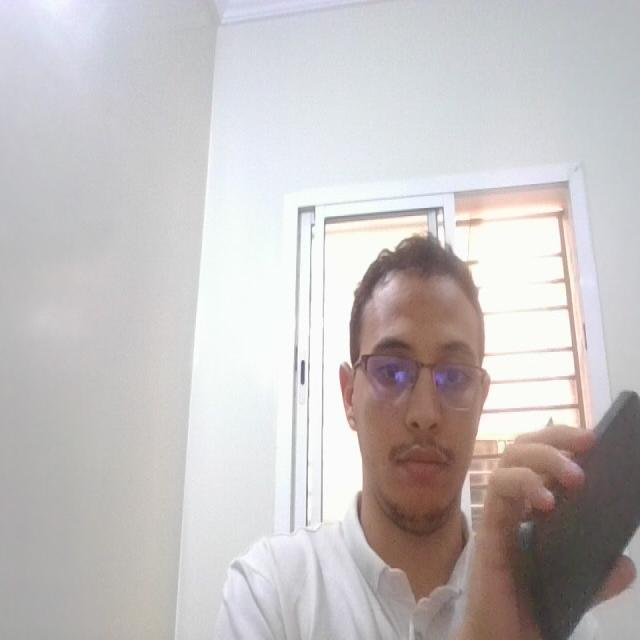phone: (510, 377, 640, 640)
